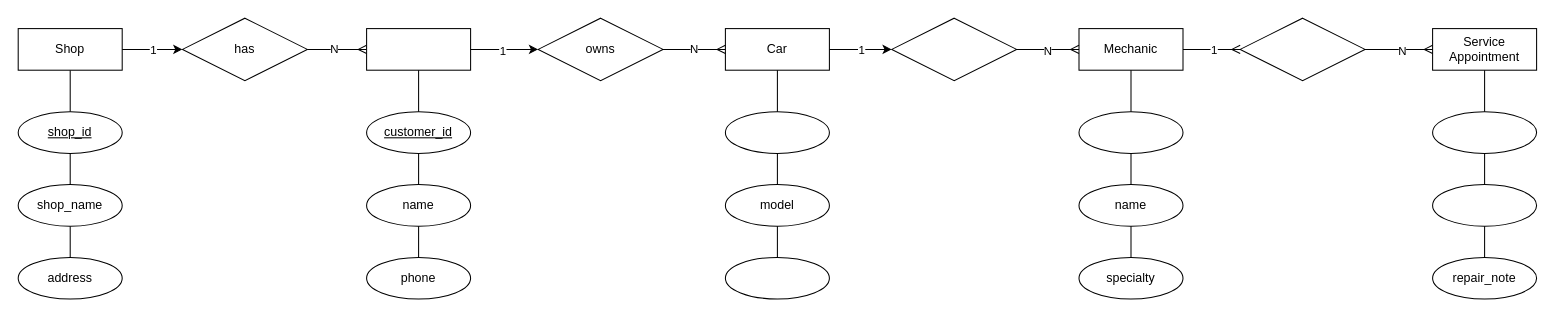
This 1555x317 diagram has some shape labels left out. Here are the shapes that lost their labels. From the top down, the centre of each, then its label:
(418,49): Customer
(954,49): serviced by
(1302,49): performs
(776,132): plate_number
(1130,132): mechanic_id
(1484,132): appointment_id
(1484,205): date
(776,277): color
